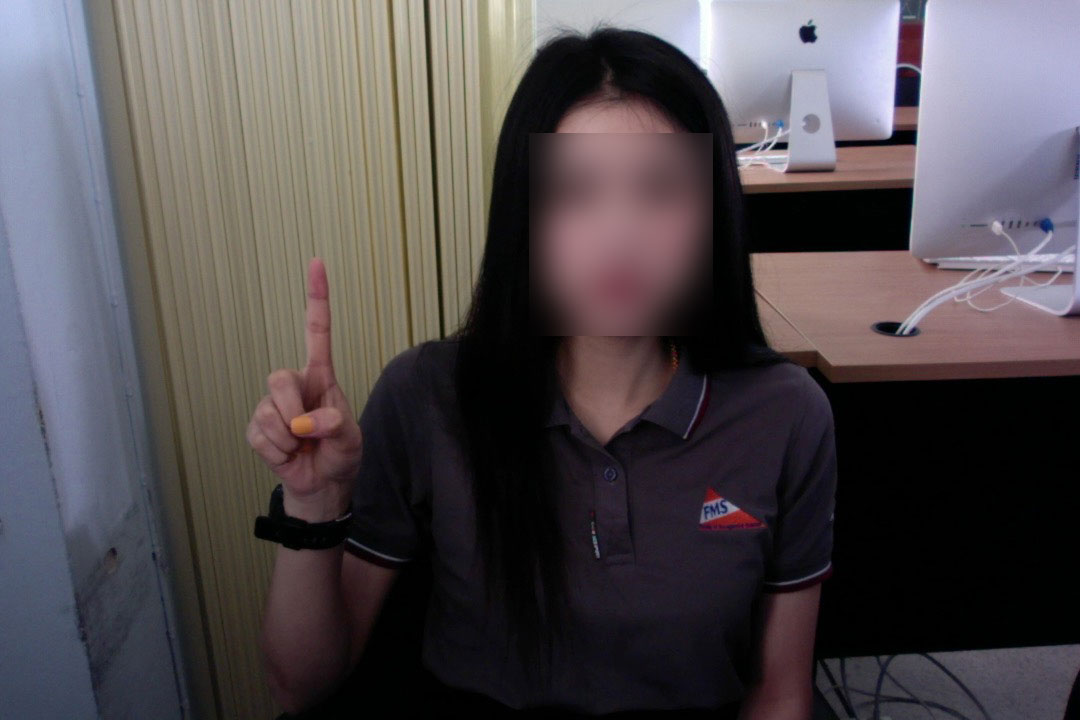dor: (234, 254, 377, 515)
